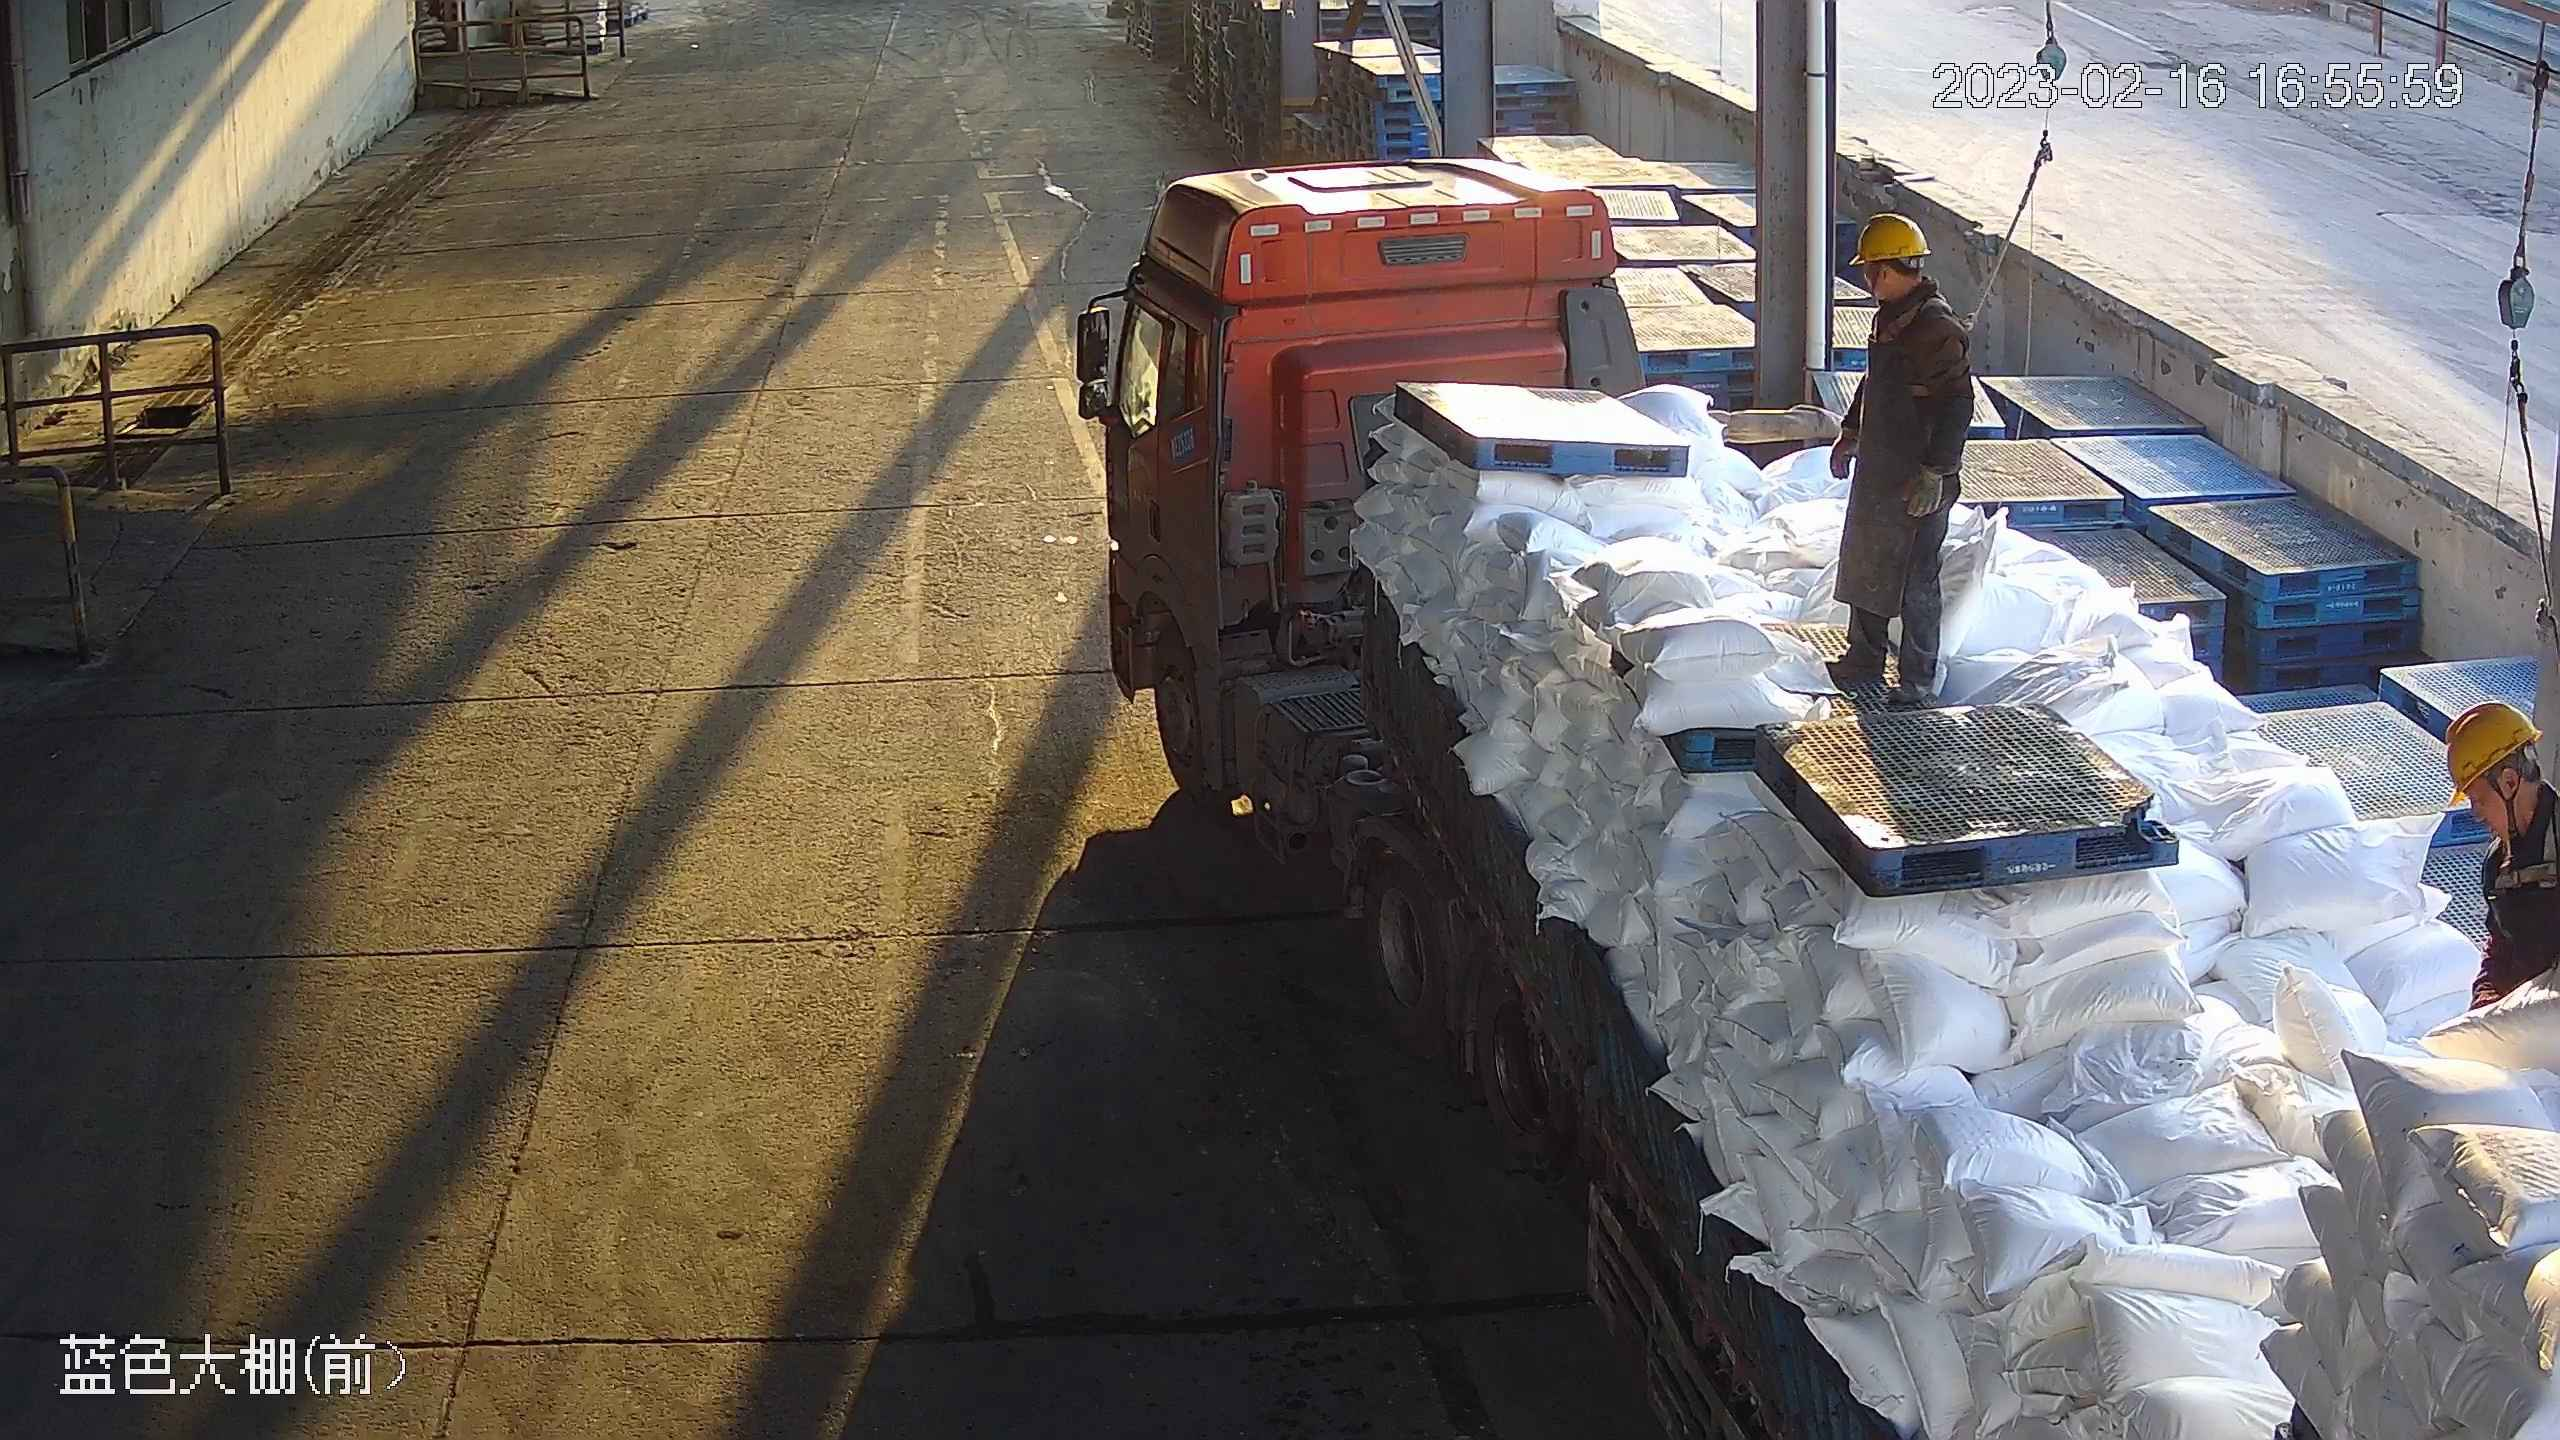belt: (1873, 295, 1977, 362), (2485, 830, 2560, 901)
head: (2433, 695, 2560, 904), (1829, 212, 1970, 351)
helmet: (2431, 695, 2551, 799), (1857, 203, 1938, 269)
people: (1831, 206, 1992, 712)
truck: (1092, 151, 2560, 1440)
